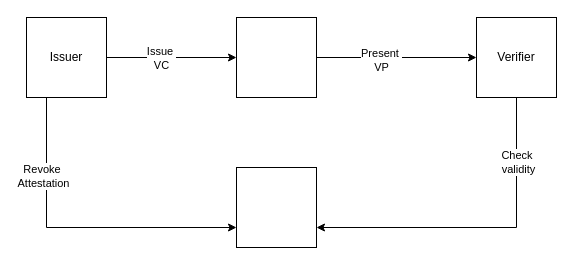
Some shapes in this 574 by 265 pixel diagram are drawn without their labels. The box of each missing label's shape, as (x1, y1, x2, y2) in pixels:
Holder: (236, 16, 316, 98)
Trusted List: (236, 166, 316, 248)
